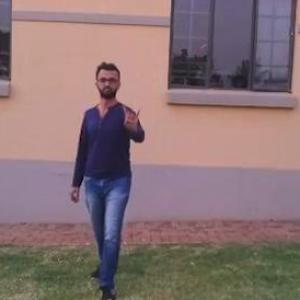takeoff-hand: (118, 98, 145, 134)
